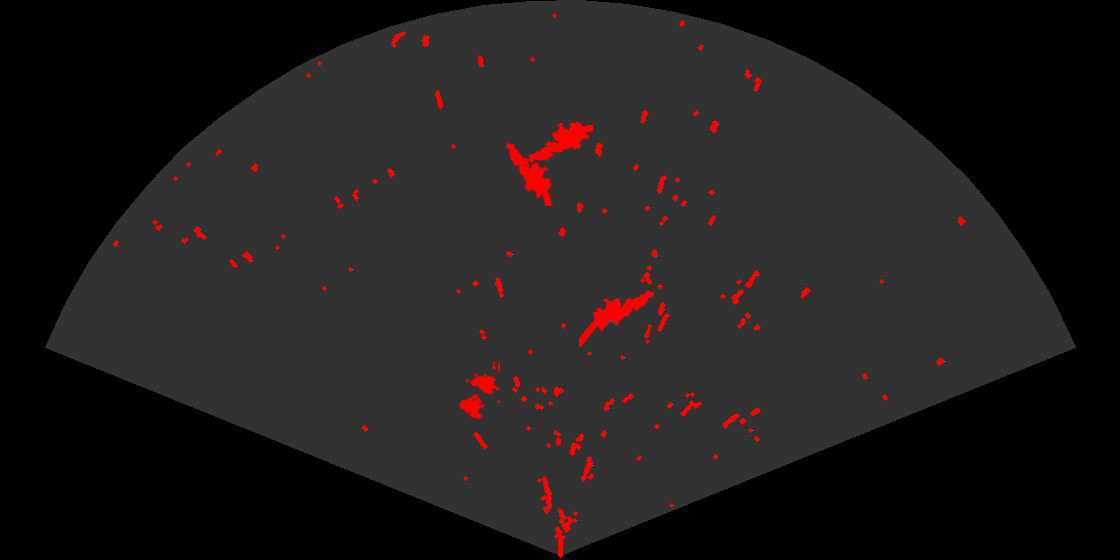cage: (457, 362, 500, 421)
frogman: (579, 289, 656, 347), (504, 141, 554, 206), (526, 120, 593, 164)
